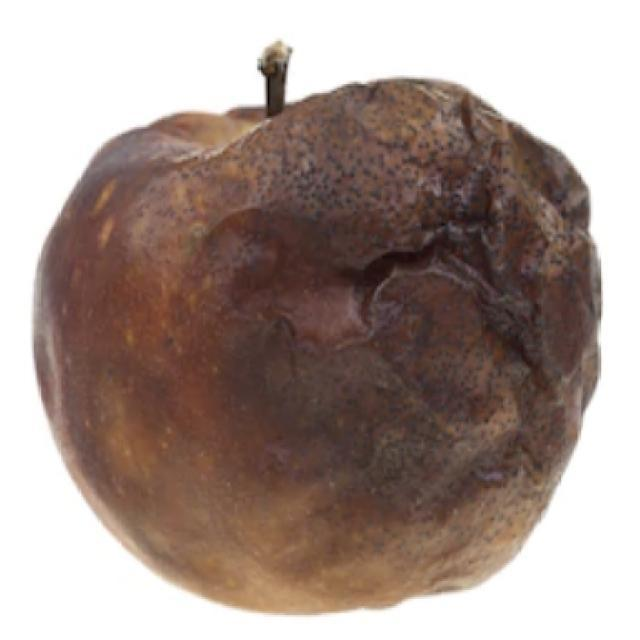Rotten: (34, 65, 608, 620)
